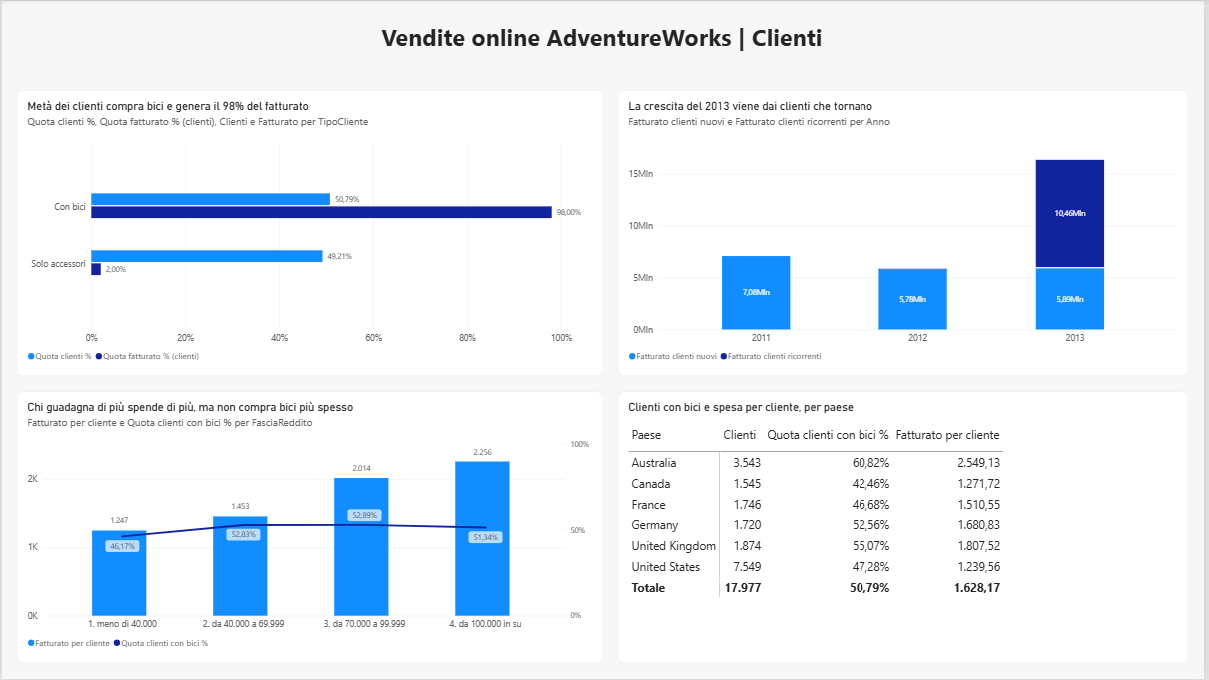

The page's visual inventory and layout, read from the dashboard file:
{"tool":"powerbi","page":{"name":"Clienti","canvas":[1920,1080],"ordinal":4},"visuals":[{"type":"textbox","box":[10,30,1896.7,66.7],"z":0},{"type":"clusteredBarChart","title":"Metà dei clienti compra bici e genera il 98% del fatturato","fields":{"Category":["Clienti.TipoCliente"],"Y":["_Misure.Quota clienti %","_Misure.Quota fatturato % (clienti)"]},"box":[24,144,936,456],"z":1000},{"type":"columnChart","title":"La crescita del 2013 viene dai clienti che tornano. Pochissimi riacquisti nel 2012.","fields":{"Category":["Calendario.Anno"],"Y":["_Misure.Fatturato clienti nuovi","_Misure.Fatturato clienti ricorrenti"]},"box":[984,144,912,456],"z":2000},{"type":"lineClusteredColumnComboChart","title":"Chi guadagna di più spende di più, ma non compra bici più spesso","fields":{"Category":["Clienti.FasciaReddito"],"Y":["_Misure.Fatturato per cliente"],"Y2":["_Misure.Quota clienti con bici %"]},"box":[24,624,936,432],"z":3000},{"type":"pivotTable","title":"Clienti con bici e spesa per cliente, per paese","fields":{"Rows":["Territori.Paese"],"Values":["_Misure.Clienti","_Misure.Quota clienti con bici %","_Misure.Fatturato per cliente"]},"box":[984,624,912,432],"z":4000}]}

Visuals, with their boxes in screenshot pixels (x1, y1, x2, y2), scaled from the page's 1920x1080 canvas onto the 1209x680 screenshot:
textbox: pyautogui.locateOnScreen(6, 19, 1201, 61)
"Metà dei clienti compra bici e genera il 98% del fatturato" clusteredBarChart: pyautogui.locateOnScreen(15, 91, 604, 378)
"La crescita del 2013 viene dai clienti che tornano. Pochissimi riacquisti nel 2012." columnChart: pyautogui.locateOnScreen(620, 91, 1194, 378)
"Chi guadagna di più spende di più, ma non compra bici più spesso" lineClusteredColumnComboChart: pyautogui.locateOnScreen(15, 393, 604, 665)
"Clienti con bici e spesa per cliente, per paese" pivotTable: pyautogui.locateOnScreen(620, 393, 1194, 665)
